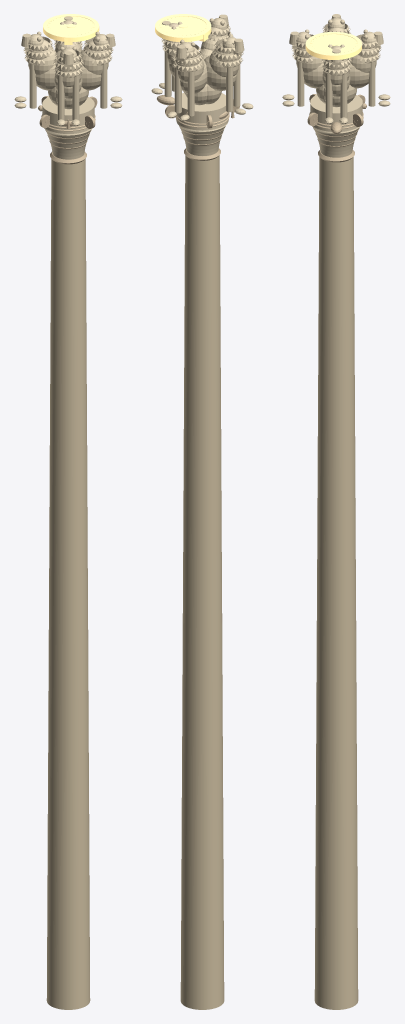
File: ashoka_pillar.glb
3 views of the same model, side by side, from view 1: azimuth 90°, elevation 25°; view 2: azimuth 150°, elevation 25°; view 3: azimuth 270°, elevation 25° (orthographic).
Visible parts, largest first — view 1: ashoka_pillar; view 2: ashoka_pillar; view 3: ashoka_pillar.
Boxes of the visible parts, x1=… form: ashoka_pillar: x1=14, y1=14, x2=122, y2=1009; ashoka_pillar: x1=151, y1=14, x2=253, y2=1009; ashoka_pillar: x1=282, y1=14, x2=390, y2=1009.
Bounding box in the file's own units: 1.22 × 12 × 1.22.
